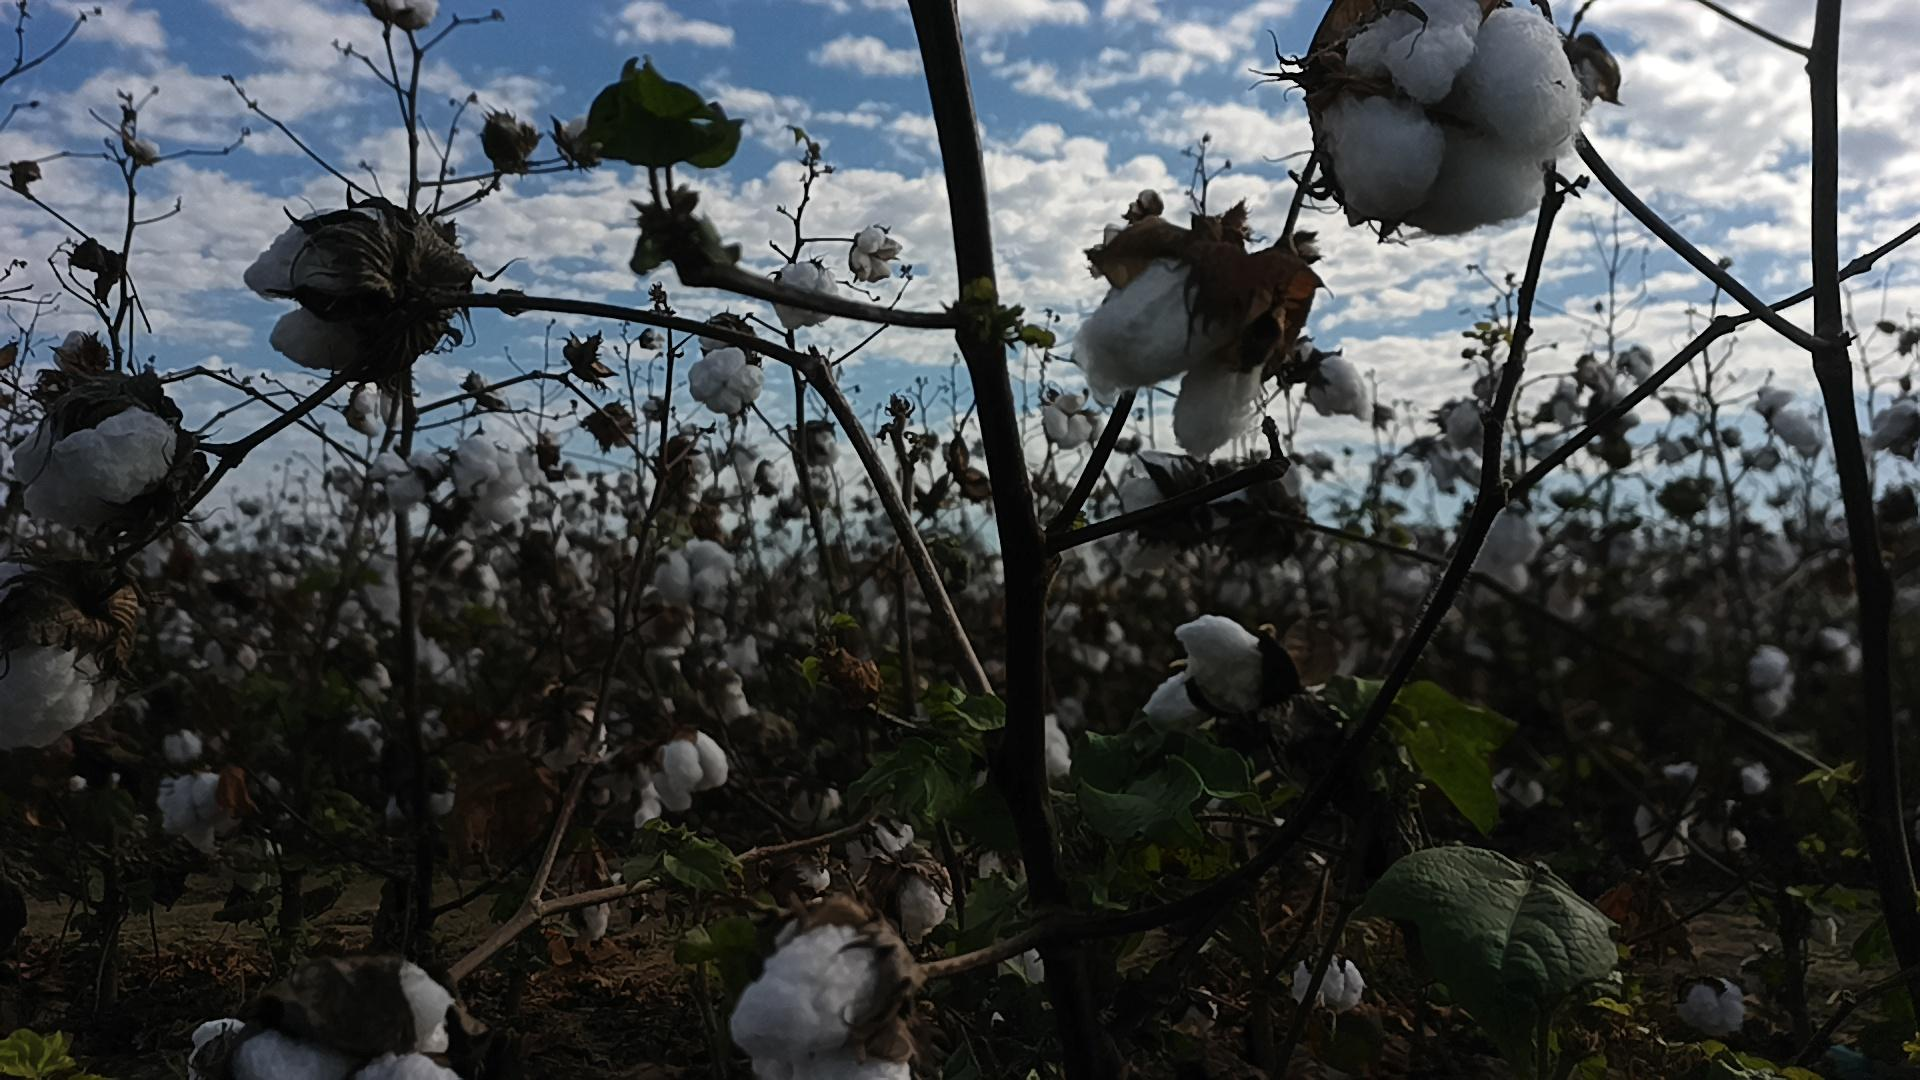cotton_ready: (1317, 0, 1581, 231), (1080, 249, 1266, 455), (241, 206, 421, 376), (216, 960, 468, 1080), (733, 926, 915, 1080), (15, 389, 189, 543), (0, 555, 116, 764), (1142, 617, 1278, 736), (1118, 450, 1213, 574), (1212, 448, 1305, 564), (647, 731, 731, 818), (870, 865, 956, 943), (658, 539, 738, 611), (688, 345, 767, 415), (452, 435, 524, 508), (363, 451, 444, 508), (1482, 512, 1545, 566)
